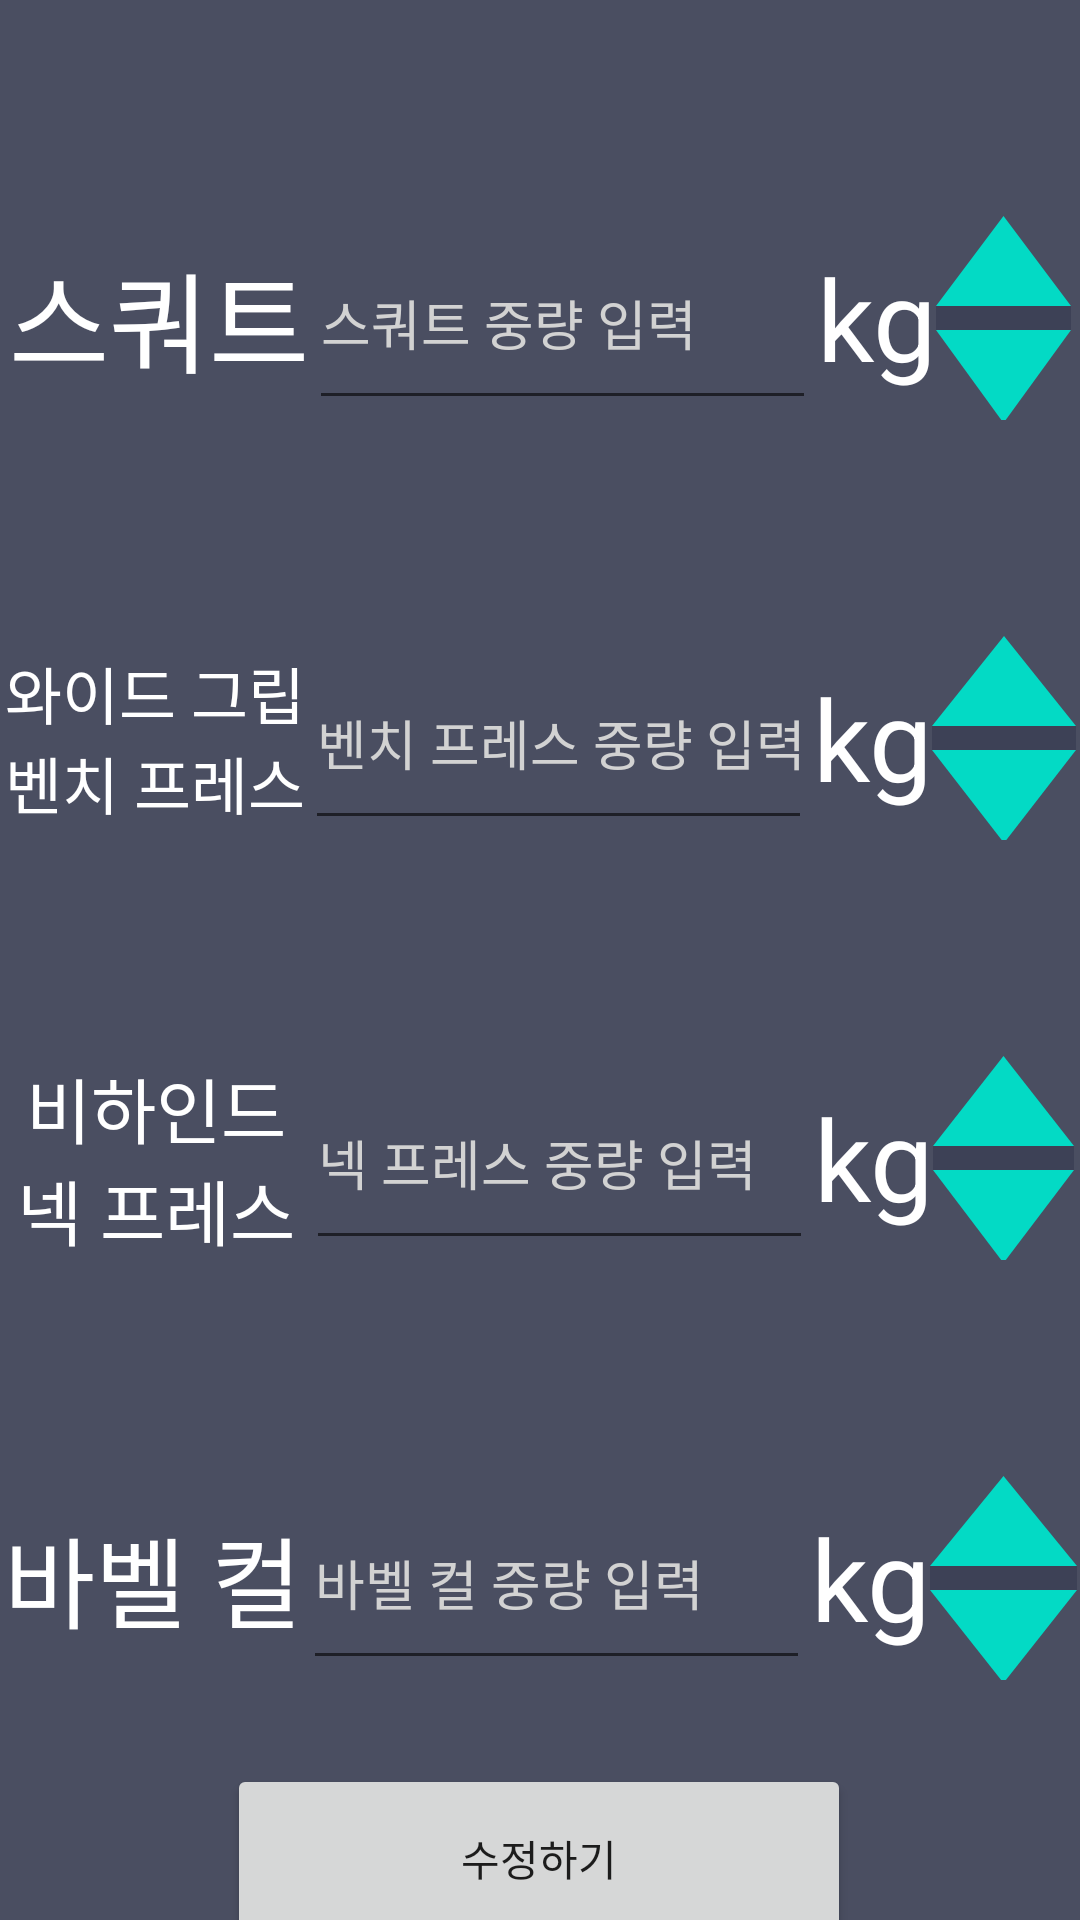

Where icons sit on this 1080×1920 app screen, as [x1=x1, y1=y1, x2=x2, y2=y2]:
triangle down: [x1=936, y1=330, x2=1071, y2=420], [x1=932, y1=750, x2=1076, y2=840], [x1=933, y1=1170, x2=1074, y2=1260], [x1=930, y1=1590, x2=1077, y2=1680]
triangle up: [x1=936, y1=216, x2=1071, y2=306], [x1=932, y1=636, x2=1076, y2=726], [x1=933, y1=1056, x2=1074, y2=1146], [x1=930, y1=1476, x2=1077, y2=1566]
